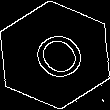O_SE: (20, 22, 90, 88)
